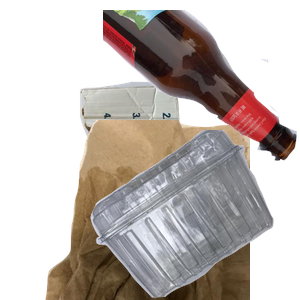cardboard: (77, 79, 251, 227)
glass: (103, 10, 300, 163)
plastic: (88, 130, 300, 300)
trash: (43, 120, 283, 300)
